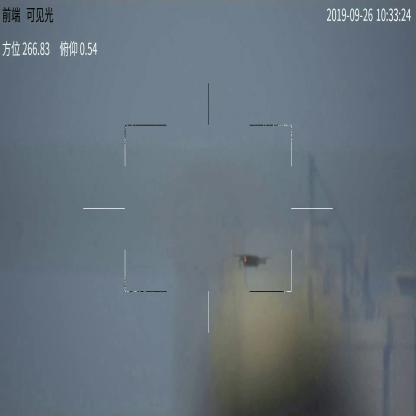uav: (234, 251, 272, 268)
